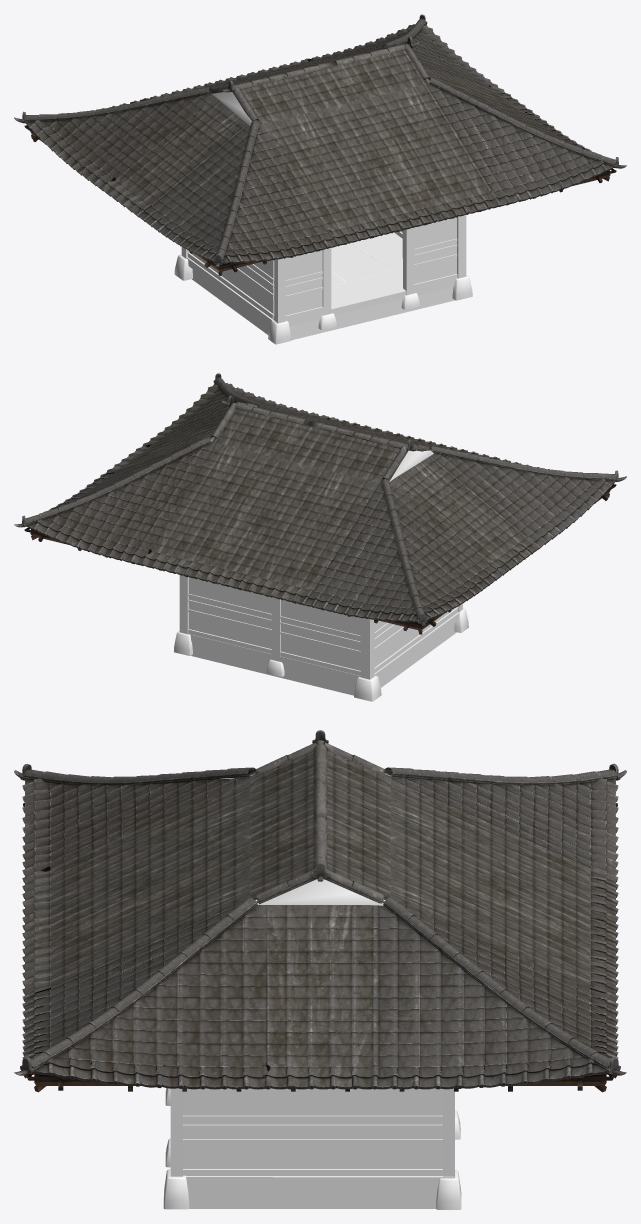
File: JapHut.fbx
The picture shows the model from 3 angles, top to bottom: view 1: azimuth 30°, elevation 25°; view 2: azimuth 150°, elevation 25°; view 3: azimuth 270°, elevation 25°; orthographic projection. The views are drawn at different scales.
Parts seen in each view (by area): view 1: JapHut; view 2: JapHut; view 3: JapHut.
Part boxes in pixels (x1=…): JapHut: x1=14, y1=14, x2=626, y2=344; JapHut: x1=14, y1=373, x2=626, y2=701; JapHut: x1=14, y1=730, x2=626, y2=1209.
Bounding box in the file's own units: 10.86 × 9.29 × 5.72.
